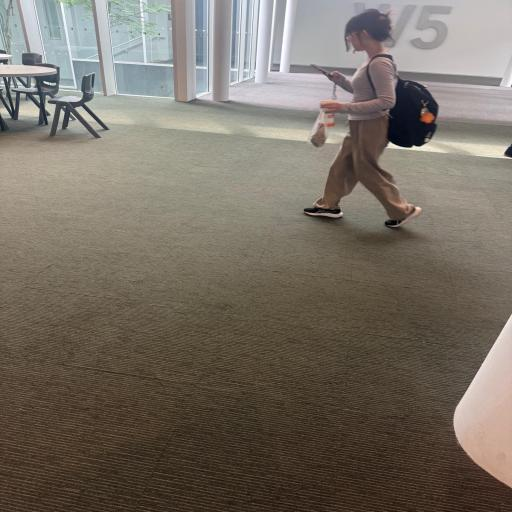person_left: (303, 8, 422, 228)
